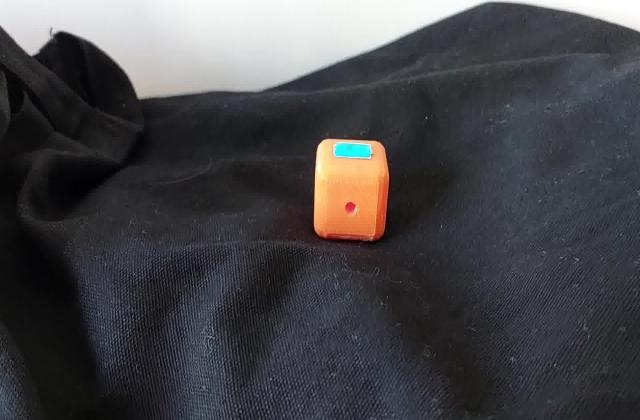blue: (341, 146, 368, 156)
cube: (308, 133, 392, 248)
